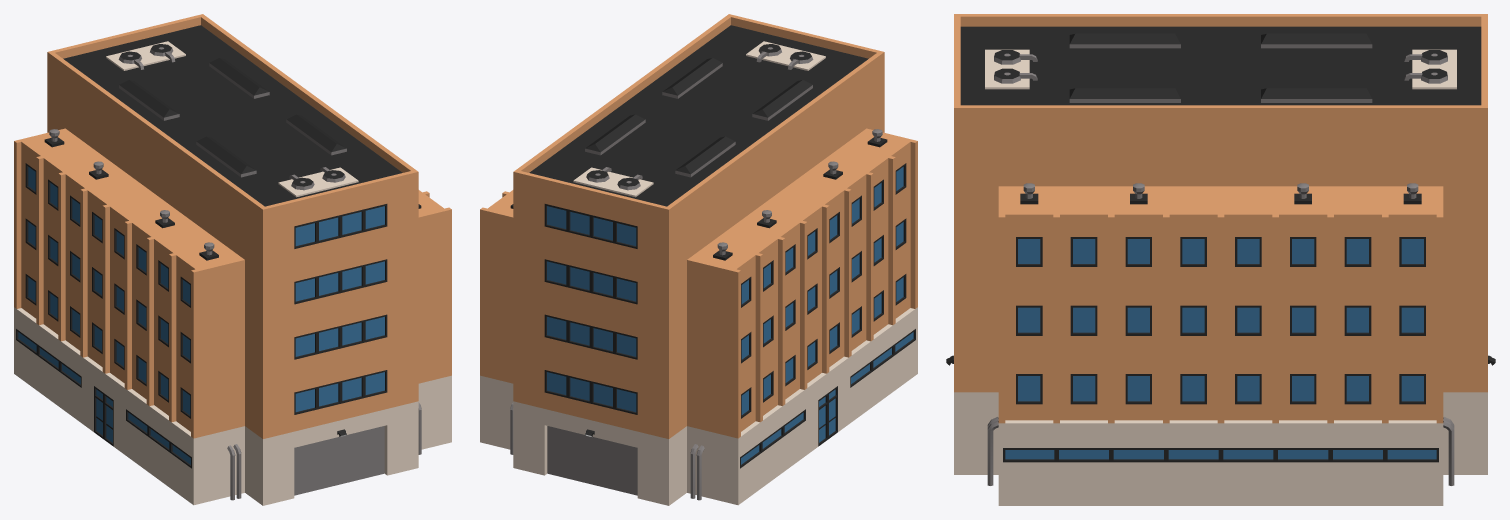
The model's file is building_1.fbx.
The picture shows the model from 3 angles, left to right: view 1: azimuth 30°, elevation 25°; view 2: azimuth 150°, elevation 25°; view 3: azimuth 270°, elevation 25°; orthographic projection. The views are drawn at different scales.
Visible parts, largest first — view 1: building_1; view 2: building_1; view 3: building_1.
Boxes of the visible parts, x1,y1,x2,y2 form: building_1: [14, 14, 451, 505]; building_1: [480, 14, 917, 505]; building_1: [946, 14, 1495, 505].
Size of the model in its own units: 1.66 by 1.82 by 2.47.
